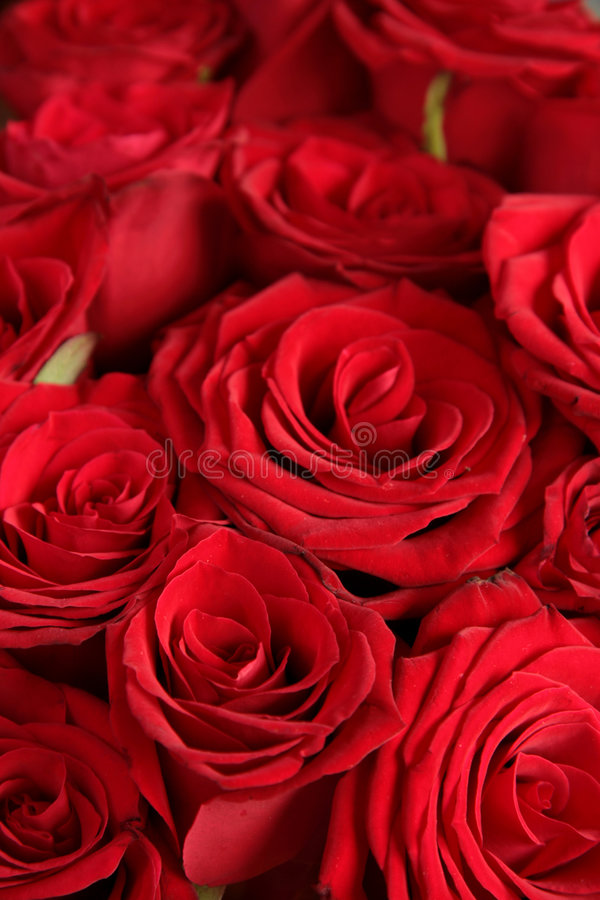RedRose: (195, 304, 573, 592), (101, 505, 390, 793), (245, 100, 540, 306), (431, 629, 586, 874), (0, 640, 160, 856), (12, 380, 145, 623), (532, 114, 597, 347), (23, 236, 97, 350)
